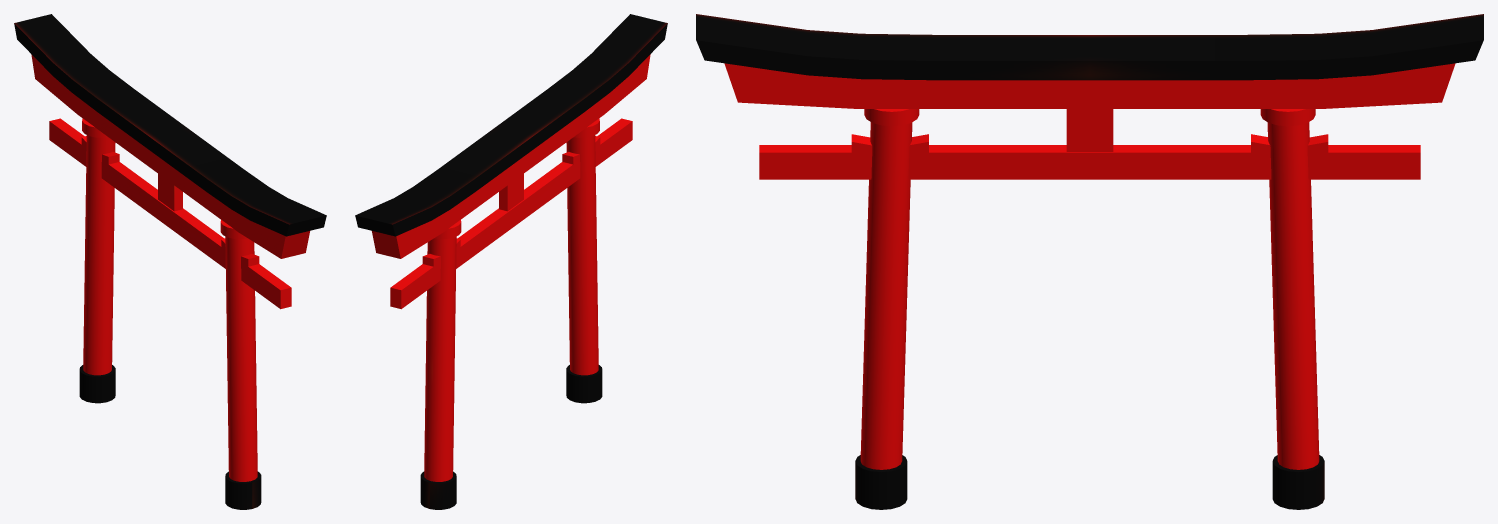
The model's file is Torii_large_modified.obj.
3 renders of one model, left to right at view 1: azimuth 30°, elevation 25°; view 2: azimuth 150°, elevation 25°; view 3: azimuth 270°, elevation 25°, orthographic. The views are drawn at different scales.
Parts seen in each view (by area): view 1: torii_円柱; view 2: torii_円柱; view 3: torii_円柱.
Part boxes in pixels (x1=…): torii_円柱: x1=14, y1=14, x2=326, y2=509; torii_円柱: x1=355, y1=14, x2=667, y2=509; torii_円柱: x1=696, y1=14, x2=1483, y2=509.
Bounding box in the file's own units: 1.49 × 12.48 × 18.88.
1 material, 1 textured.
